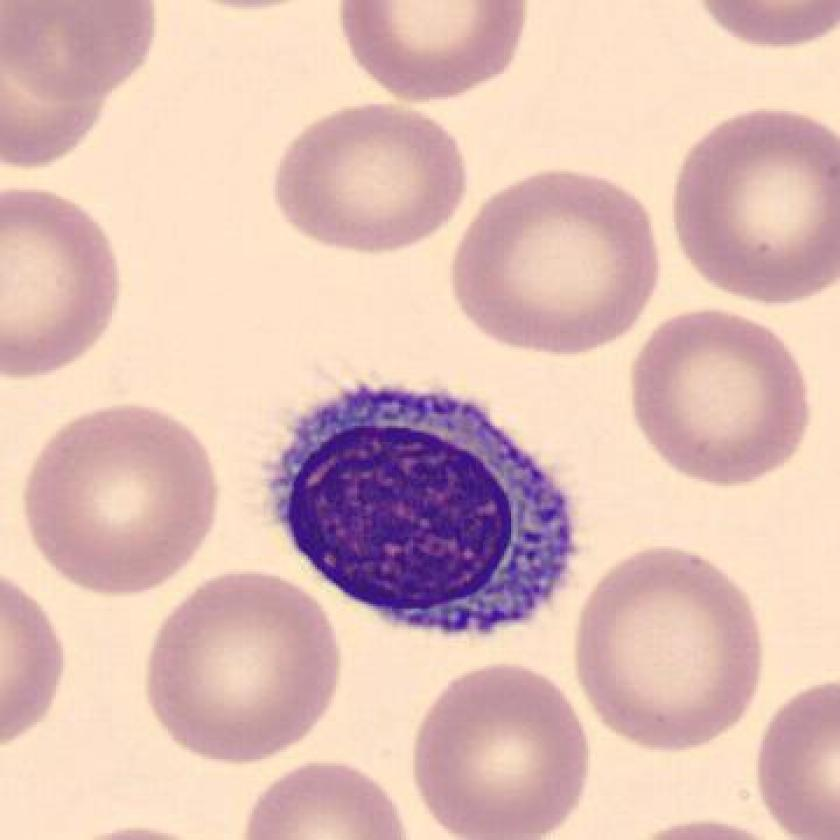lymphocyte: (255, 369, 589, 656)
